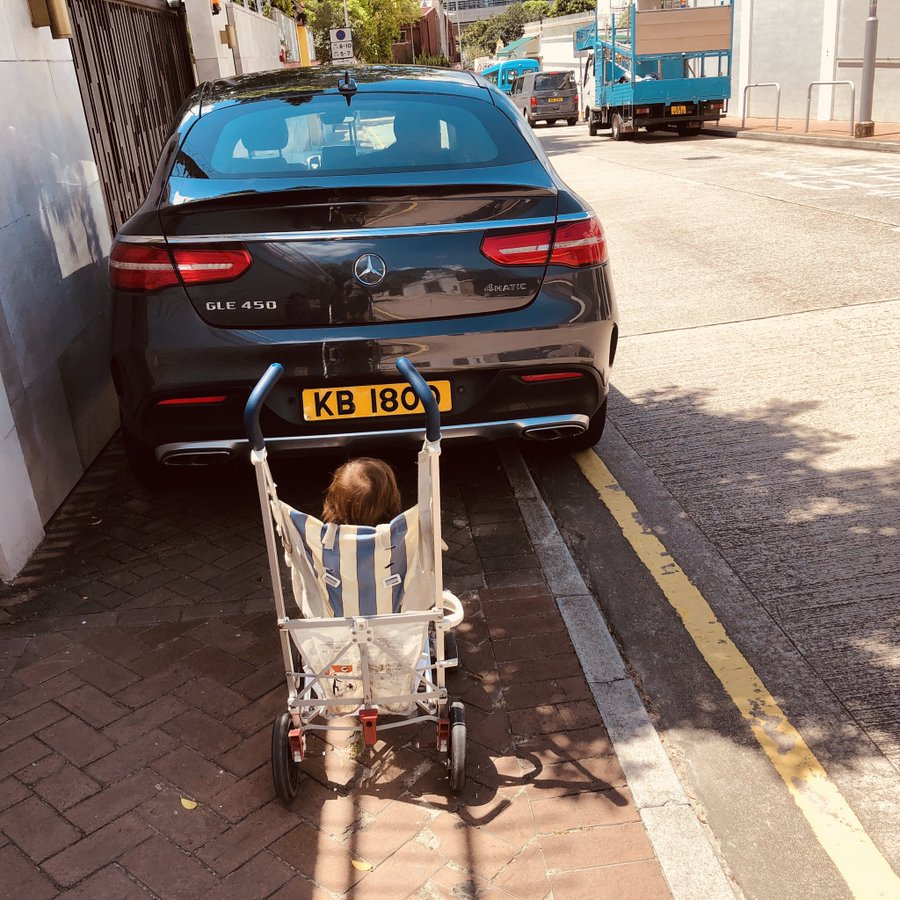Car: (103, 52, 626, 453)
